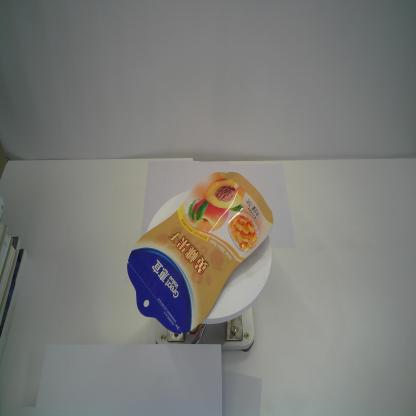Dried Fruit: (126, 172, 274, 334)
